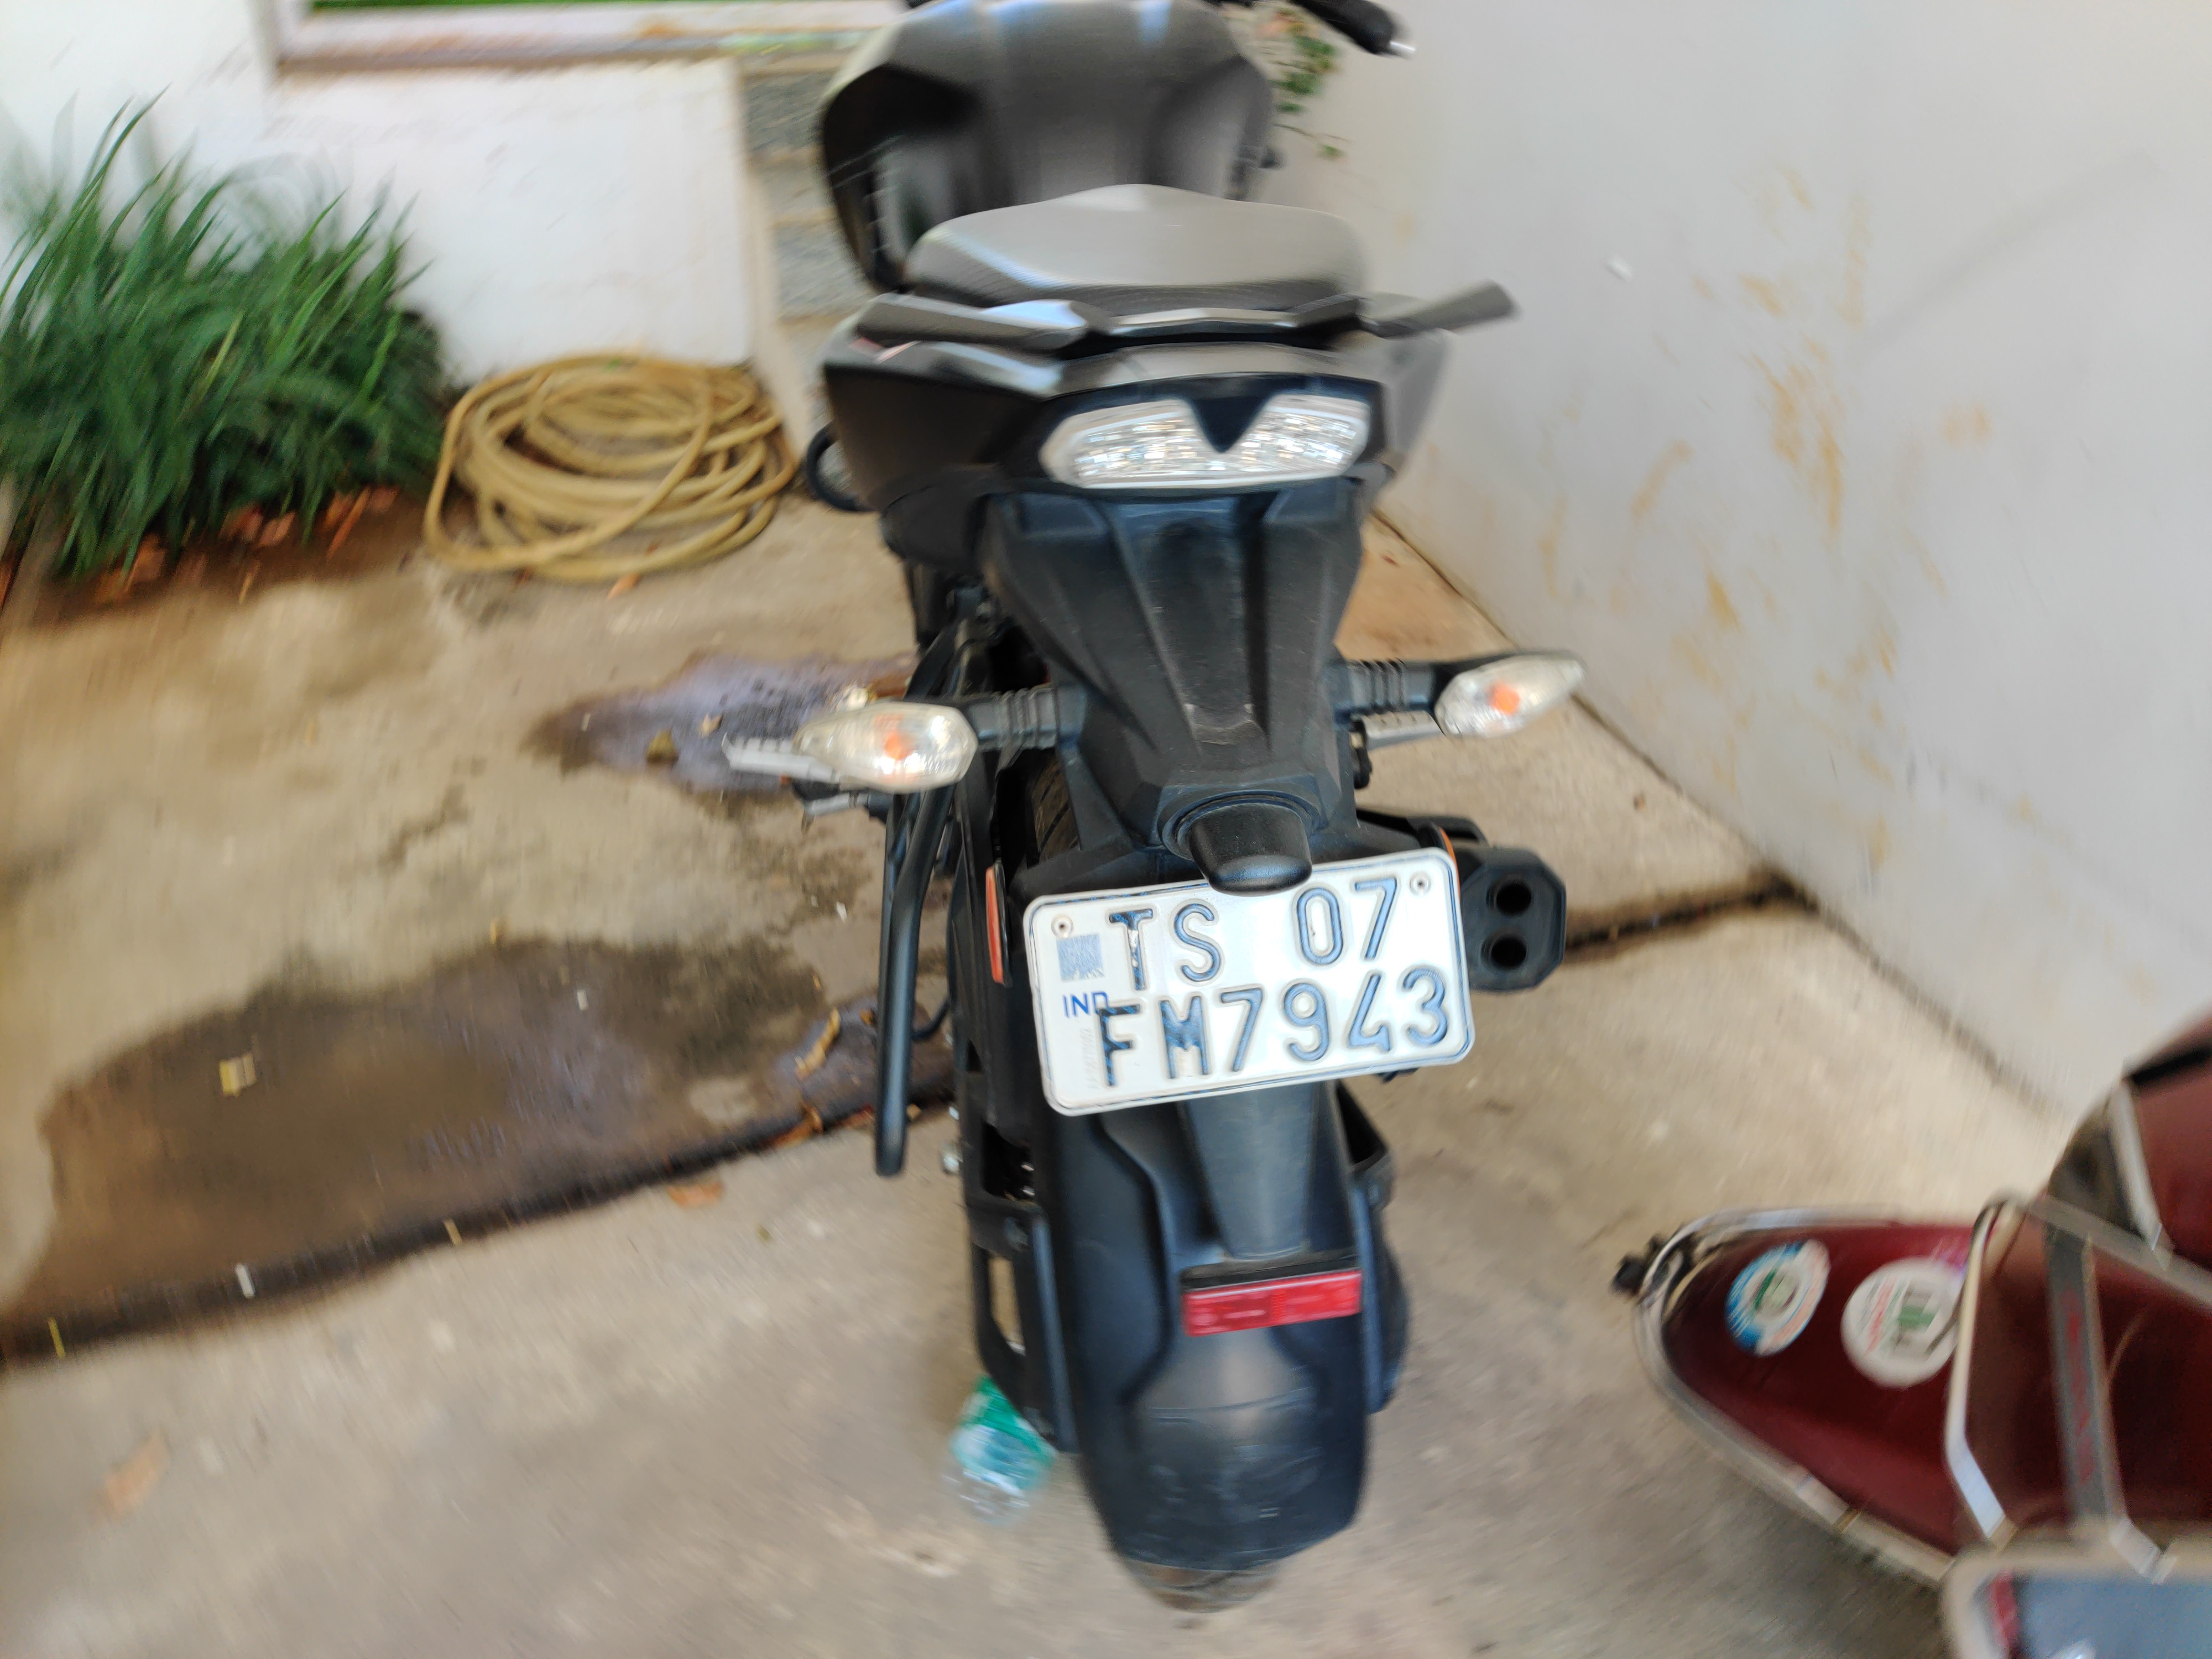plate: (995, 836, 1498, 1117)
